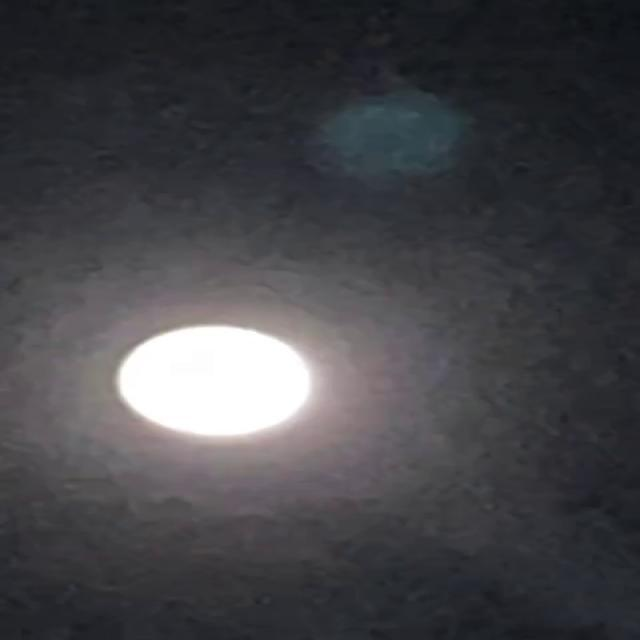moon: (96, 307, 326, 451)
